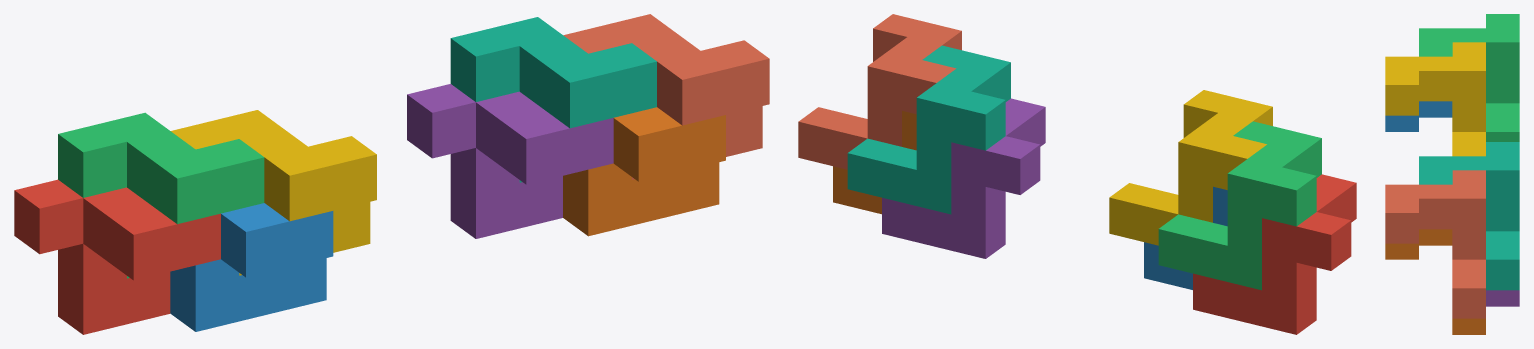
The model's file is tiling.obj.
3 views of the same model, side by side, from view 1: azimuth 30°, elevation 25°; view 2: azimuth 150°, elevation 25°; view 3: azimuth 270°, elevation 25° (orthographic). The views are drawn at different scales.
Visible parts, largest first — view 1: copy_1_domain_5, copy_1_domain_1, copy_1_domain_7, copy_1_domain_3, copy_1_domain_2, copy_1_domain_6, copy_1_domain_4, copy_1_domain_8; view 2: copy_1_domain_7, copy_1_domain_3, copy_1_domain_1, copy_1_domain_5, copy_1_domain_4, copy_1_domain_8, copy_1_domain_6, copy_1_domain_2; view 3: copy_1_domain_8, copy_1_domain_4, copy_1_domain_7, copy_1_domain_3, copy_1_domain_6, copy_1_domain_2, copy_1_domain_5.
Boxes of the visible parts, bbox=[...] form: copy_1_domain_5: bbox=[407, 84, 613, 238]; copy_1_domain_1: bbox=[14, 179, 220, 334]; copy_1_domain_7: bbox=[450, 17, 656, 182]; copy_1_domain_3: bbox=[58, 112, 264, 278]; copy_1_domain_2: bbox=[170, 203, 333, 331]; copy_1_domain_6: bbox=[563, 107, 725, 236]; copy_1_domain_4: bbox=[171, 110, 376, 275]; copy_1_domain_8: bbox=[563, 14, 769, 179]; copy_1_domain_7: bbox=[847, 45, 1010, 214]; copy_1_domain_3: bbox=[1158, 121, 1321, 290]; copy_1_domain_1: bbox=[1193, 174, 1356, 334]; copy_1_domain_5: bbox=[882, 98, 1045, 258]; copy_1_domain_4: bbox=[1109, 90, 1272, 245]; copy_1_domain_8: bbox=[798, 14, 961, 169]; copy_1_domain_6: bbox=[833, 111, 916, 214]; copy_1_domain_2: bbox=[1144, 186, 1227, 289]; copy_1_domain_8: bbox=[1385, 170, 1485, 318]; copy_1_domain_4: bbox=[1385, 42, 1485, 156]; copy_1_domain_7: bbox=[1419, 142, 1519, 290]; copy_1_domain_3: bbox=[1419, 14, 1519, 141]; copy_1_domain_6: bbox=[1385, 229, 1485, 334]; copy_1_domain_2: bbox=[1385, 101, 1452, 131]; copy_1_domain_5: bbox=[1486, 290, 1519, 306].
Bounding box in the file's own units: 16 × 4 × 4.
